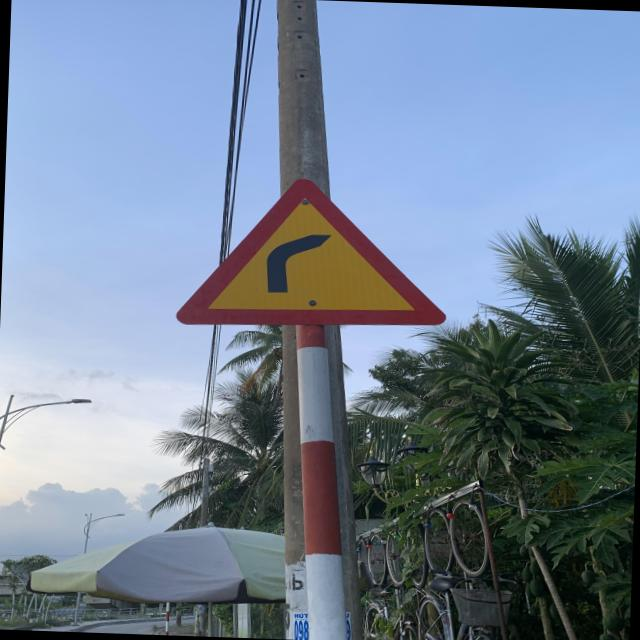Duong_Nguoi_Di_Bo_Cat_Ngang: (176, 178, 452, 335)
